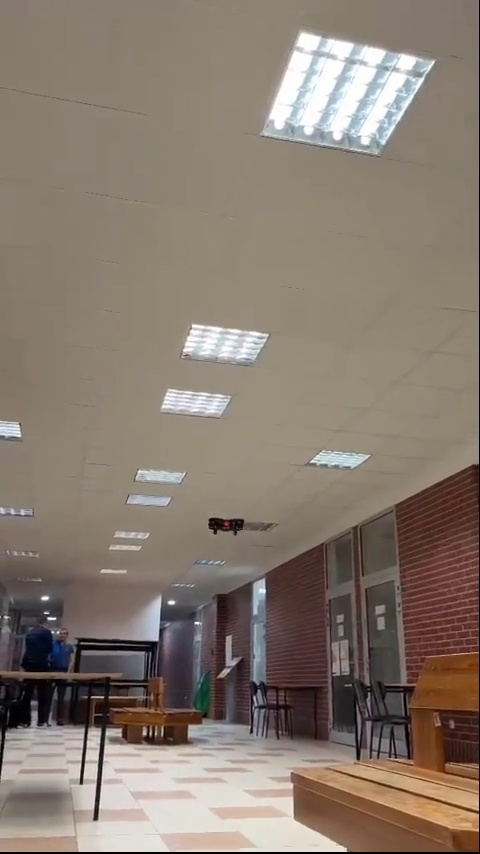drone: (206, 514, 246, 539)
no vest: (20, 613, 50, 718), (50, 623, 74, 731)
